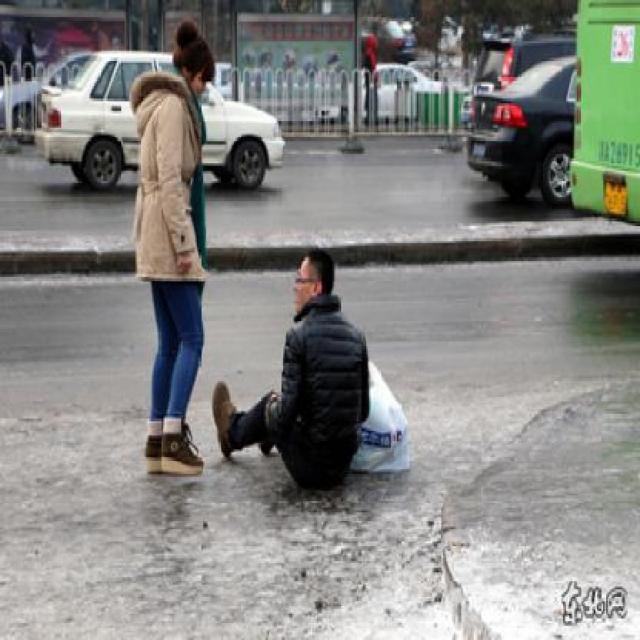fall: (211, 243, 383, 483)
